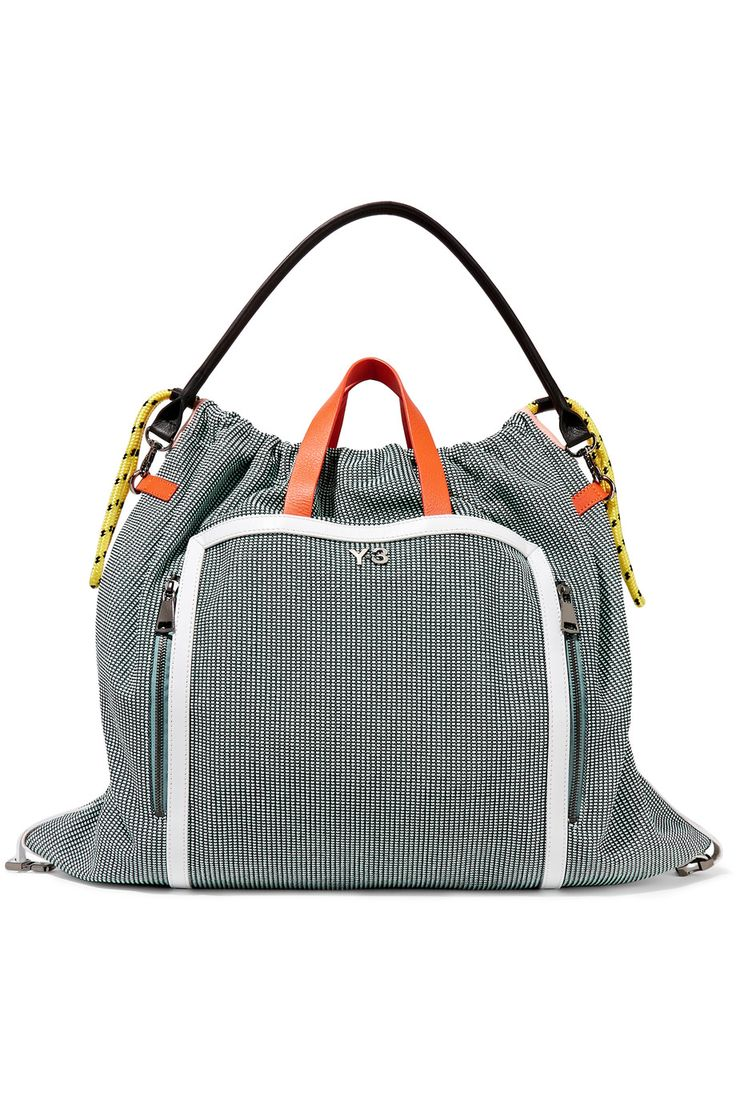nylon: (16, 398, 714, 892)
